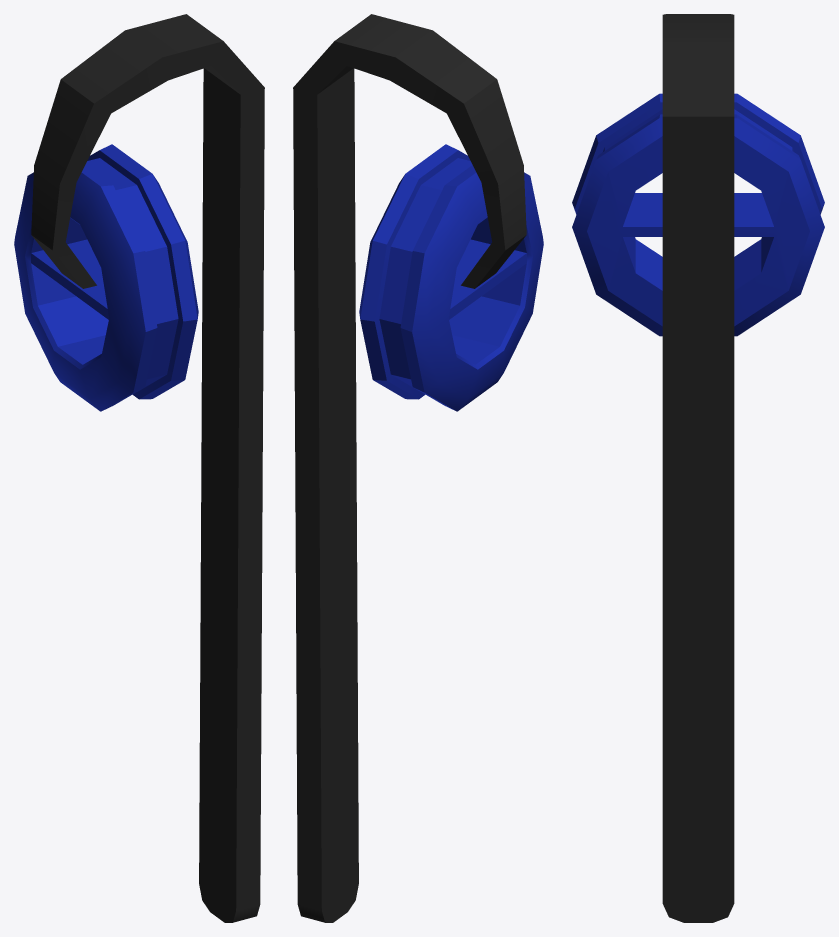
Rendered from RuedaPuerta.fbx.
3 views of the same model, side by side, from view 1: azimuth 30°, elevation 25°; view 2: azimuth 150°, elevation 25°; view 3: azimuth 270°, elevation 25° (orthographic). The views are drawn at different scales.
Parts seen in each view (by area): view 1: pTorus1; view 2: pTorus1; view 3: pTorus1.
Boxes of the visible parts, x1=… form: pTorus1: x1=14, y1=14, x2=264, y2=922; pTorus1: x1=293, y1=14, x2=543, y2=922; pTorus1: x1=572, y1=14, x2=824, y2=922.
Bounding box in the file's own units: 0.1675 × 0.6996 × 0.1857.
